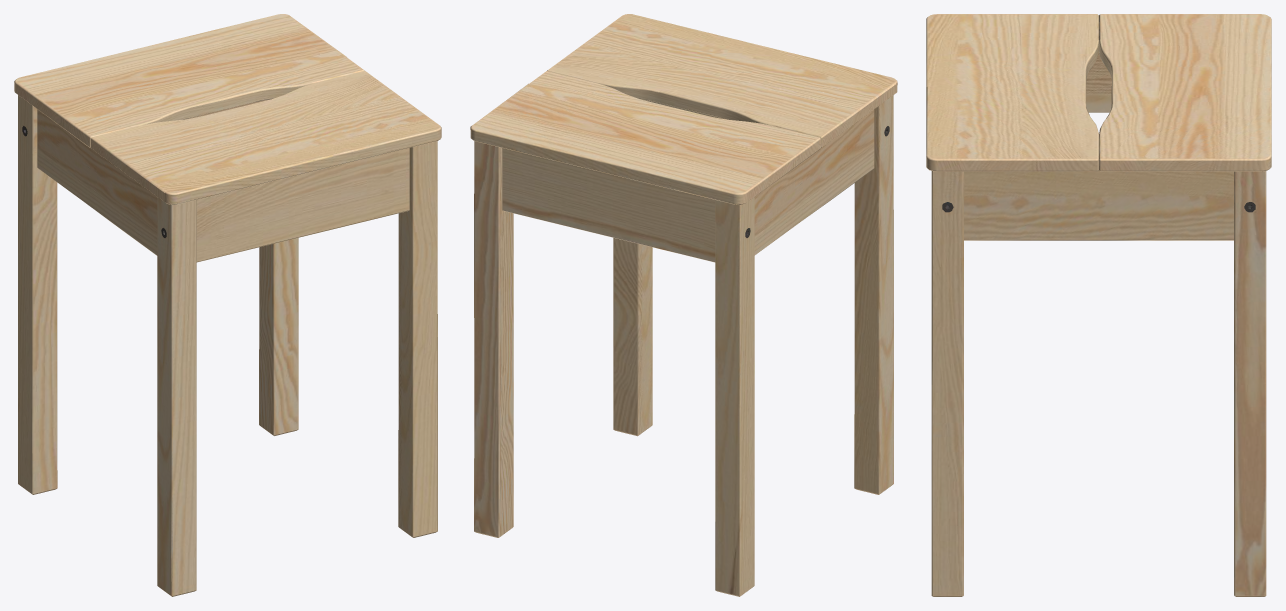
The picture shows the model from 3 angles, left to right: view 1: azimuth 30°, elevation 25°; view 2: azimuth 150°, elevation 25°; view 3: azimuth 270°, elevation 25°; orthographic projection. The views are drawn at different scales.
Parts seen in each view (by area): view 1: 80607014-HÃƒâ€žGERNÃƒâ€žS001; view 2: 80607014-HÃƒâ€žGERNÃƒâ€žS001; view 3: 80607014-HÃƒâ€žGERNÃƒâ€žS001.
Boxes of the visible parts, bbox=[...] form: 80607014-HÃƒâ€žGERNÃƒâ€žS001: bbox=[14, 14, 441, 596]; 80607014-HÃƒâ€žGERNÃƒâ€žS001: bbox=[470, 14, 897, 596]; 80607014-HÃƒâ€žGERNÃƒâ€žS001: bbox=[926, 14, 1271, 596].
Size of the model in its own units: 0.32 by 0.45 by 0.3199.
Materials: 1 (1 with a texture image).
